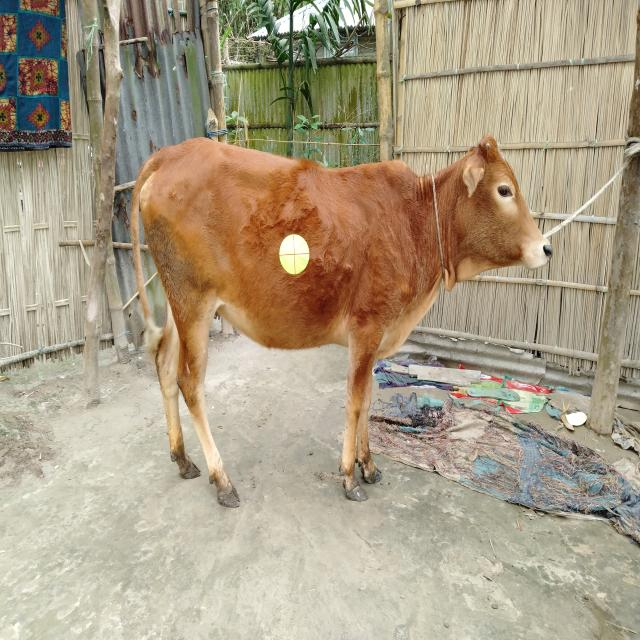badan_sapi: (140, 159, 406, 353)
sapi: (116, 126, 564, 516)
